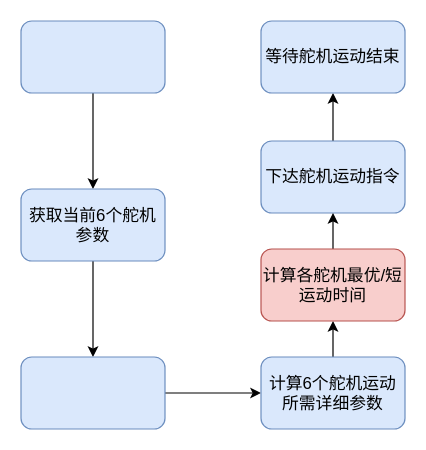
Image size: 426x450. Some labels were removed from this diagram. Here are the shapes that lost their labels. From the top down, the centre of each, then its label:
At (92,56): "下达运动指令 （目标位置）".
At (92,392): "逆运动学解算".
